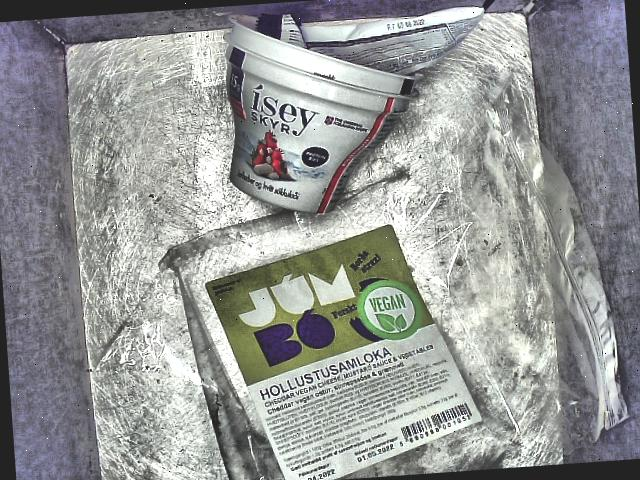Plastic: (163, 179, 502, 480), (227, 0, 484, 219)
